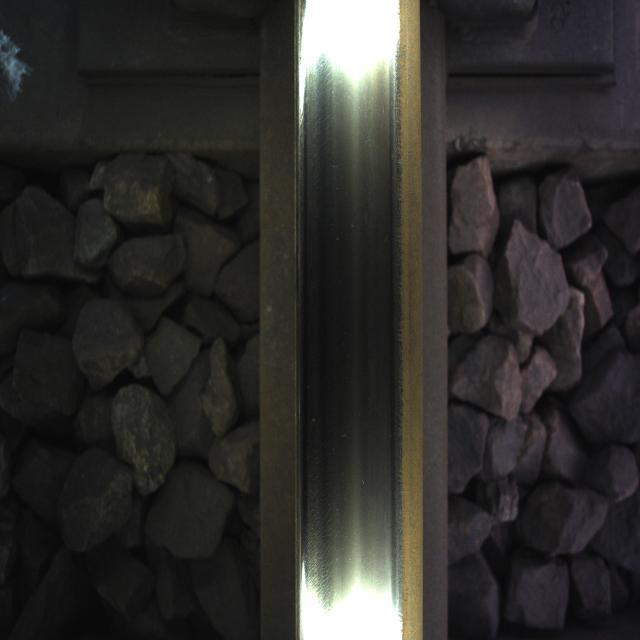break: (299, 52, 389, 604)
